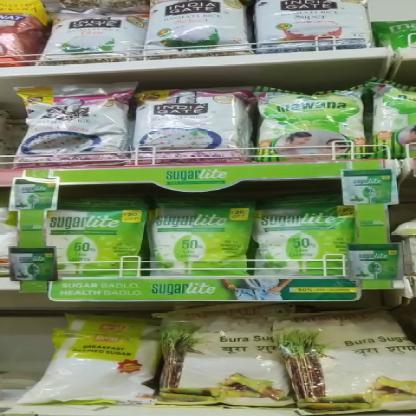SUGARLITE POUCH 500G: (150, 192, 254, 273), (50, 196, 146, 276), (257, 192, 352, 272)
